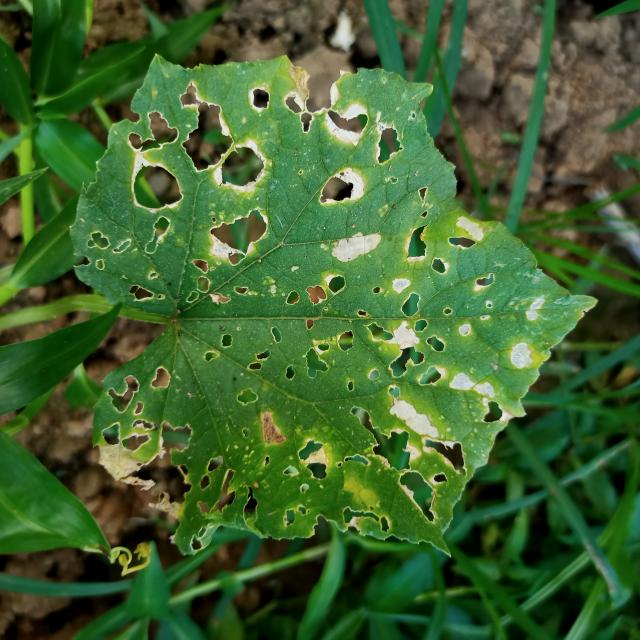disease_cucumber: (97, 78, 534, 505)
